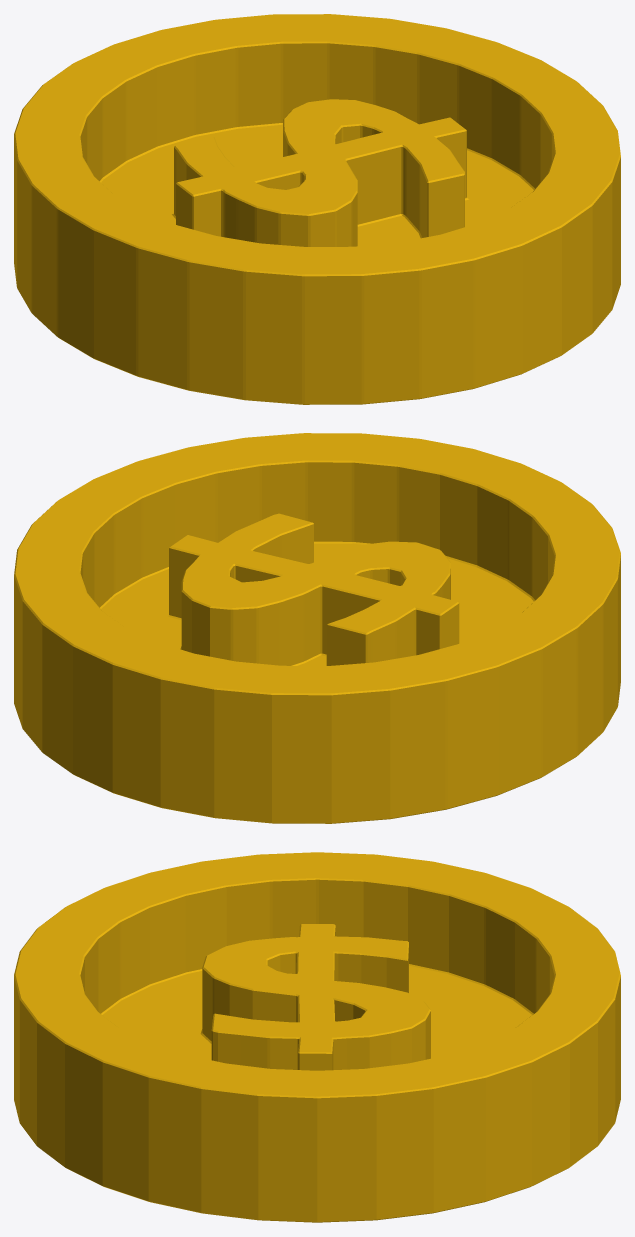
The model's file is moneda.fbx.
The picture shows the model from 3 angles, top to bottom: view 1: azimuth 30°, elevation 25°; view 2: azimuth 150°, elevation 25°; view 3: azimuth 270°, elevation 25°; orthographic projection. The views are drawn at different scales.
Visible parts, largest first — view 1: Cilindro; view 2: Cilindro; view 3: Cilindro.
Part boxes in pixels (x1=…): Cilindro: x1=14, y1=14, x2=620, y2=404; Cilindro: x1=14, y1=433, x2=620, y2=823; Cilindro: x1=14, y1=852, x2=620, y2=1222.
Size of the model in its own units: 87.36 by 20.93 by 91.31.
